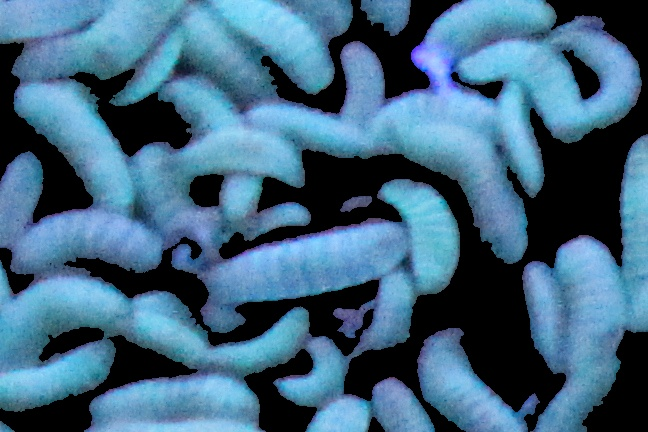larvae: (393, 122, 525, 264), (7, 81, 132, 215), (214, 219, 405, 303), (154, 74, 259, 213), (460, 38, 590, 142), (208, 1, 333, 93), (417, 333, 526, 432), (375, 177, 457, 297), (1, 283, 128, 359), (555, 239, 629, 365), (557, 19, 640, 130), (88, 380, 260, 432), (16, 214, 161, 273), (199, 306, 307, 385), (1, 338, 114, 412), (172, 132, 310, 187), (183, 14, 269, 100), (91, 1, 182, 82), (244, 99, 363, 157), (488, 84, 551, 193), (384, 83, 499, 142), (618, 133, 648, 335), (538, 361, 622, 432), (517, 261, 568, 372), (272, 330, 347, 405), (111, 27, 183, 105), (425, 1, 555, 42), (121, 145, 196, 216), (125, 304, 205, 361), (366, 270, 422, 350), (1, 153, 48, 243), (334, 38, 383, 123), (10, 38, 93, 79), (370, 381, 434, 432), (250, 202, 314, 230)
